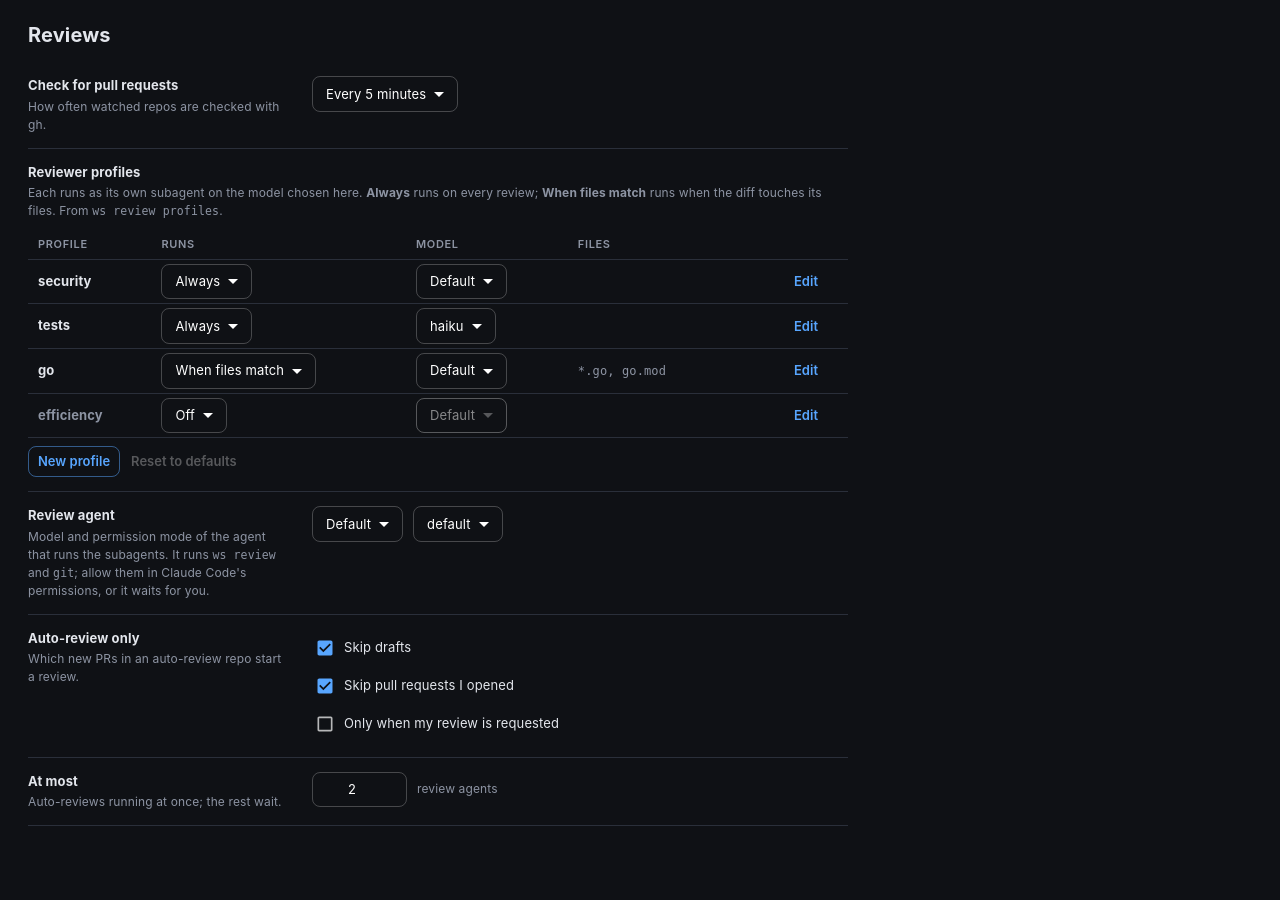
Test: ProfileEditor › edits a built-in, saying saving makes an edited copy, and passes only the changes
expect the text "efficiency" is shown: met, box [28,393,152,438]
Click the button with aria-label "Edit security" at (806, 281), box [774,266,838,297]
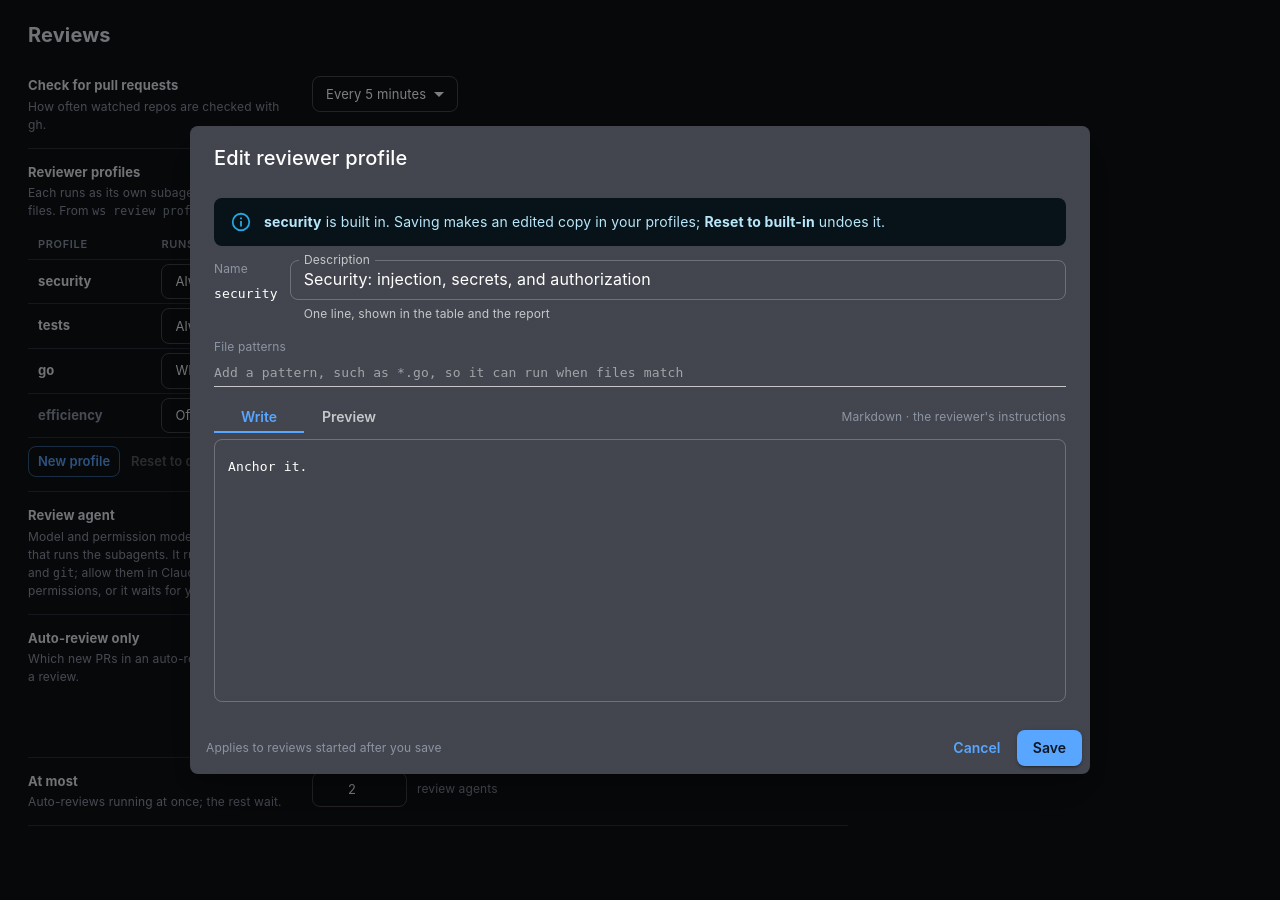
expect the text "is built in. Saving makes an edited copy" is shown: met, box [322,213,704,230]
expect the text box named "Guide" holds "Anchor it.": met
Type " Webhooks too." into the text box named "Guide" at (640, 570), box [228,455,1052,685]
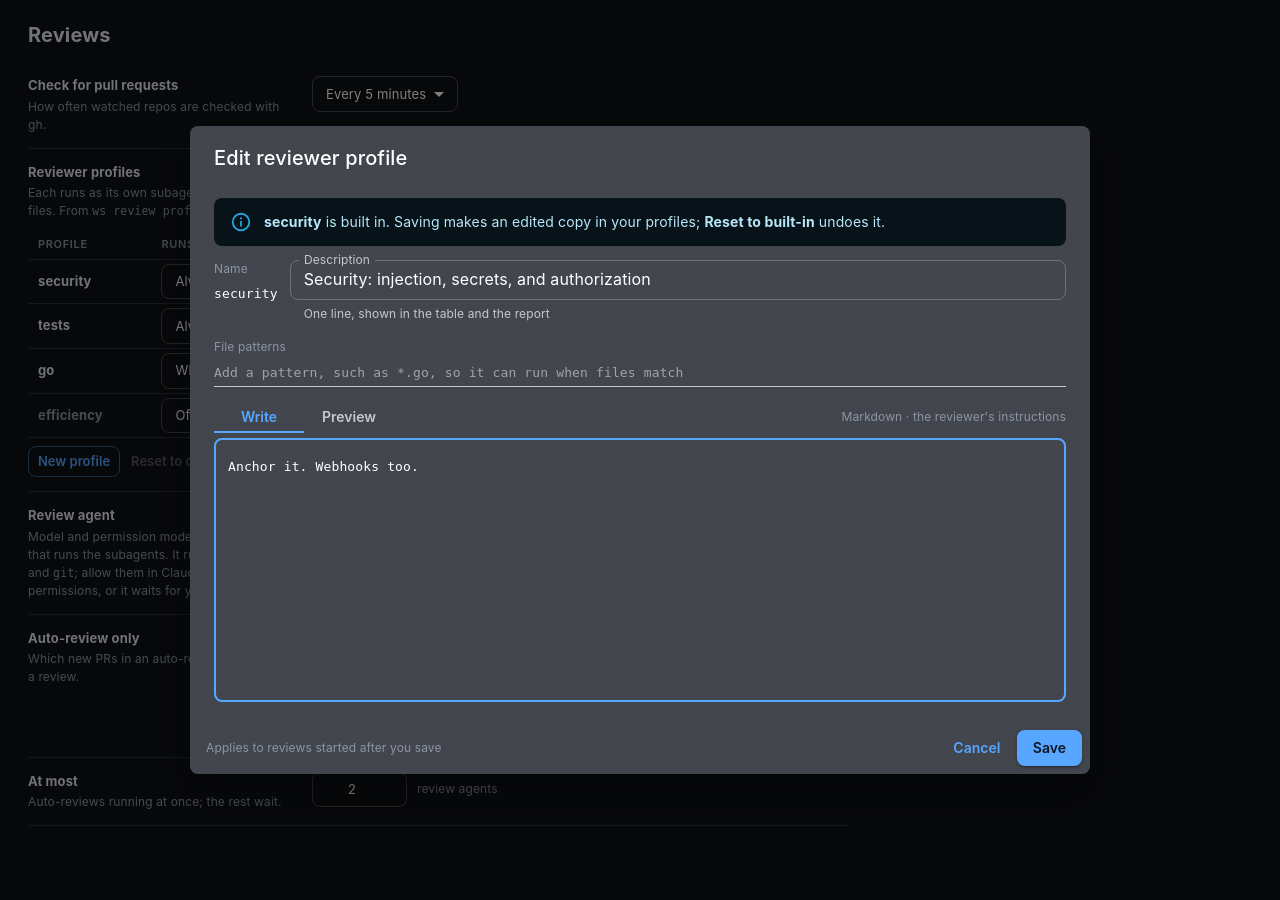
Click the button "Save" at (1049, 748), box [1017,730,1082,766]
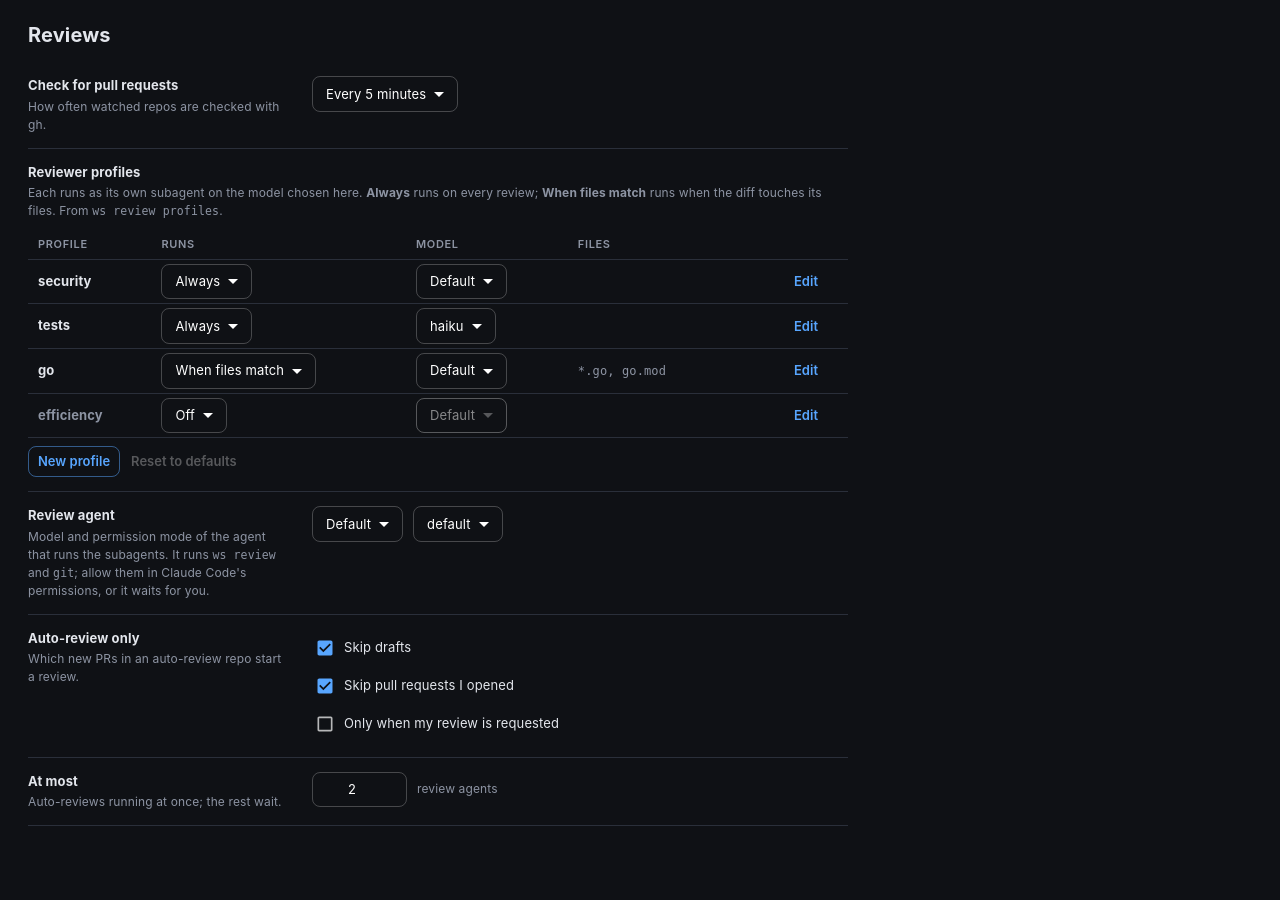
expect the dialog is gone: met
